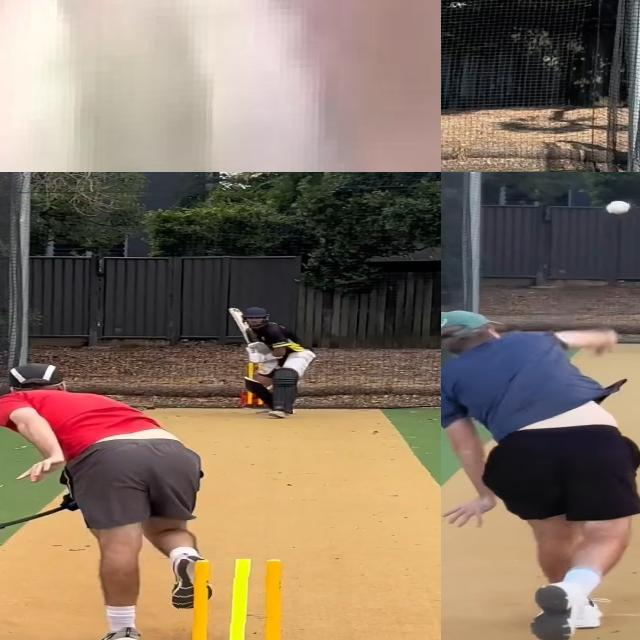Cricket ball: (0, 0, 344, 172), (602, 199, 636, 217)
Stumps: (171, 558, 299, 640)
